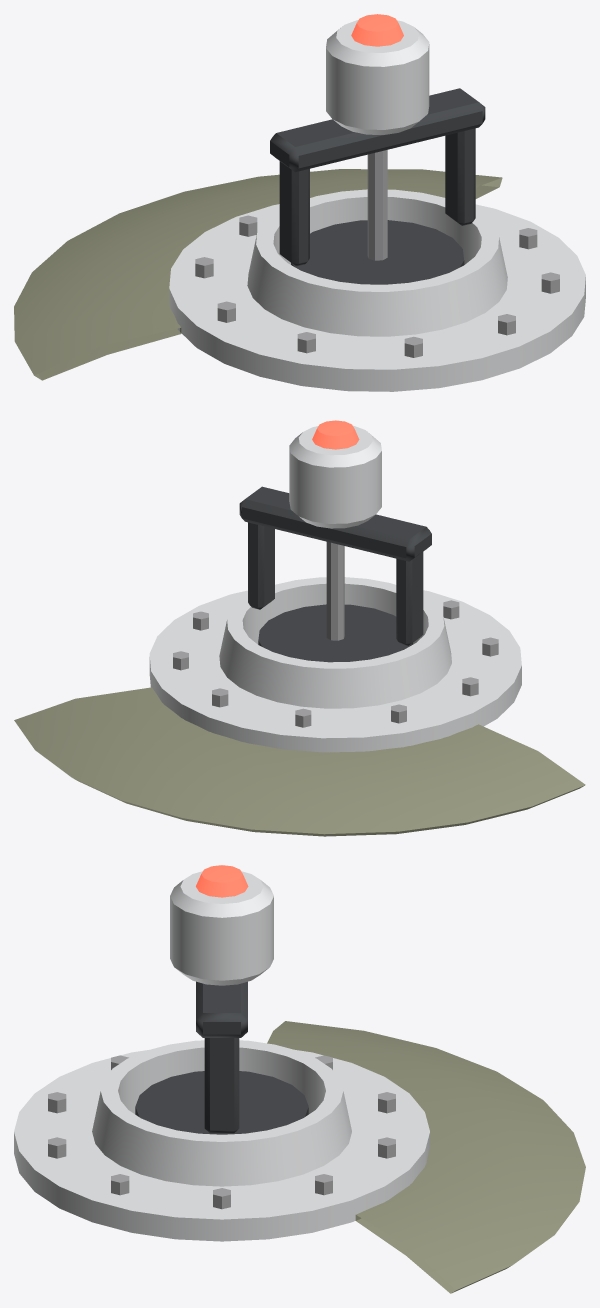
File: dirigible_gas_valve.glb
3 renders of one model, top to bottom at view 1: azimuth 30°, elevation 25°; view 2: azimuth 150°, elevation 25°; view 3: azimuth 270°, elevation 25°, orthographic. The views are drawn at different scales.
Parts seen in each view (by area): view 1: body; view 2: body; view 3: body.
Boxes of the visible parts, x1=… form: body: x1=14, y1=14, x2=585, y2=391; body: x1=14, y1=420, x2=585, y2=836; body: x1=14, y1=865, x2=585, y2=1293.
Bounding box in the file's own units: 0.3677 × 0.196 × 0.3299.
